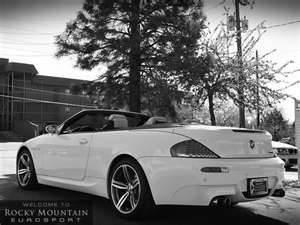car: (13, 106, 291, 222)
